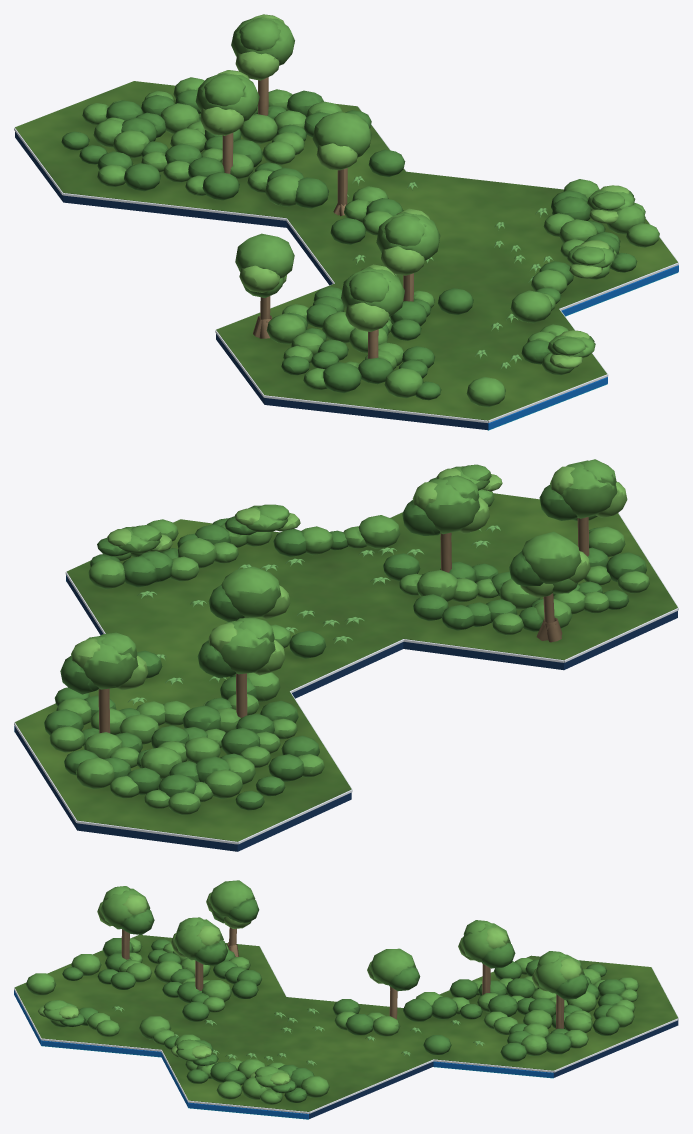
Rendered from field_cm11_01.glb.
3 renders of one model, top to bottom at view 1: azimuth 30°, elevation 25°; view 2: azimuth 150°, elevation 25°; view 3: azimuth 270°, elevation 25°, orthographic. The views are drawn at different scales.
Parts seen in each view (by area): view 1: field_cm11_01-rooted-forest; view 2: field_cm11_01-rooted-forest; view 3: field_cm11_01-rooted-forest.
Part boxes in pixels (x1=…): field_cm11_01-rooted-forest: x1=14, y1=14, x2=678, y2=430; field_cm11_01-rooted-forest: x1=14, y1=459, x2=678, y2=851; field_cm11_01-rooted-forest: x1=14, y1=880, x2=678, y2=1119.
Size of the model in its own units: 12.12 by 2.88 by 19.17.
Materials: 1 (1 with a texture image).
